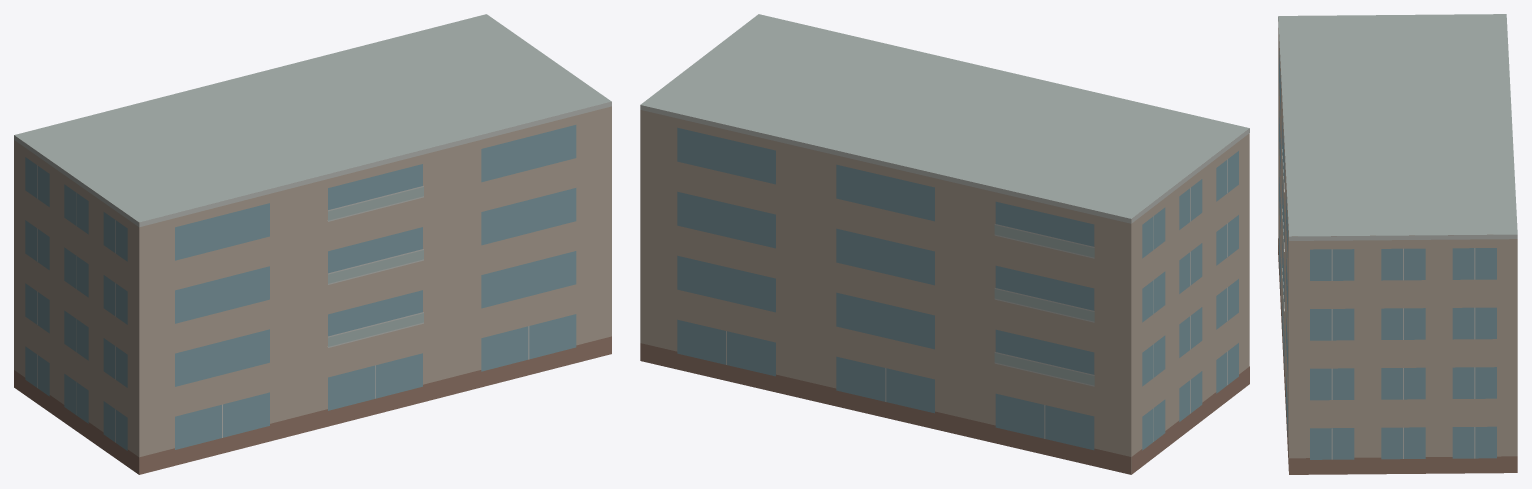
The model's file is survey-upis-32631864.glb.
3 views of the same model, side by side, from view 1: azimuth 30°, elevation 25°; view 2: azimuth 150°, elevation 25°; view 3: azimuth 270°, elevation 25° (orthographic). The views are drawn at different scales.
Visible parts, largest first — view 1: survey-upis-32631864.tmp; view 2: survey-upis-32631864.tmp; view 3: survey-upis-32631864.tmp.
Boxes of the visible parts, box(x1,y1,x2,y2) form: survey-upis-32631864.tmp: box(14, 14, 611, 474); survey-upis-32631864.tmp: box(640, 14, 1249, 474); survey-upis-32631864.tmp: box(1278, 14, 1517, 474).
Bounding box in the file's own units: 25.62 × 12.8 × 11.66.
